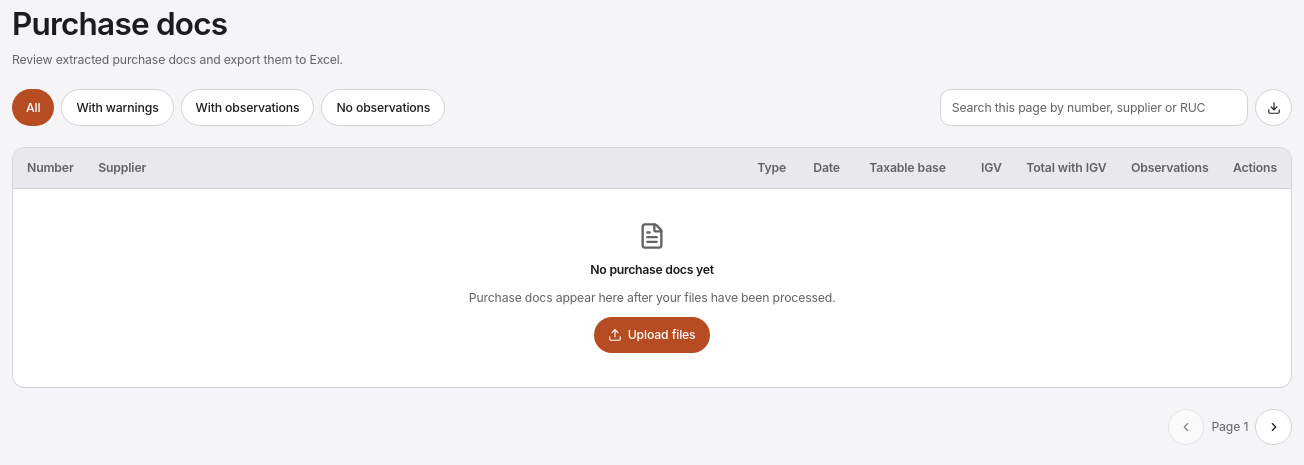
Test: uses next_offset and resets to the first page when filters change
Click the button named "Next" at (1274, 427), box [1255,408,1292,445]
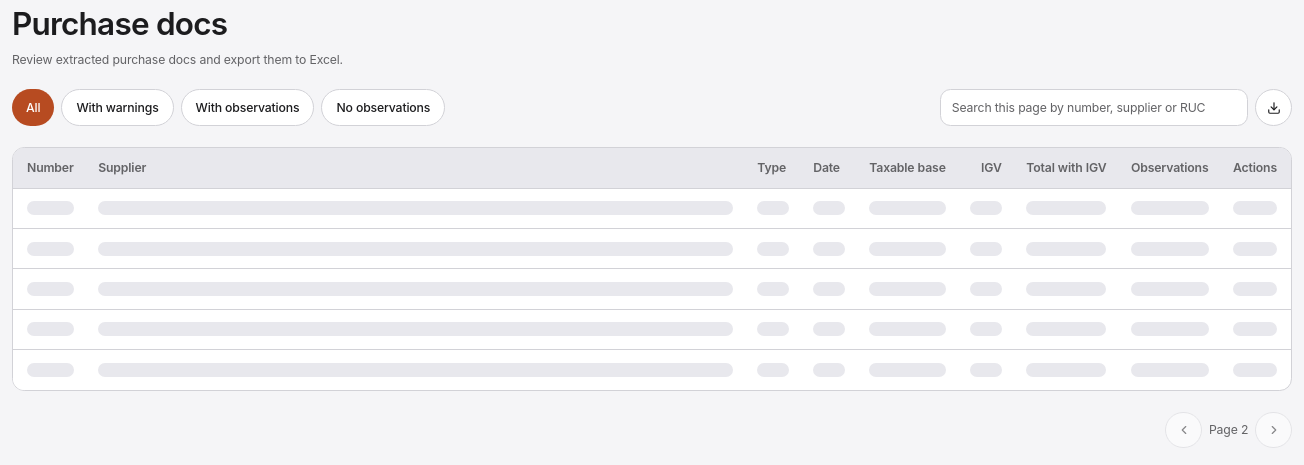
Click the button "With warnings" at (118, 108), box [61,89,174,126]
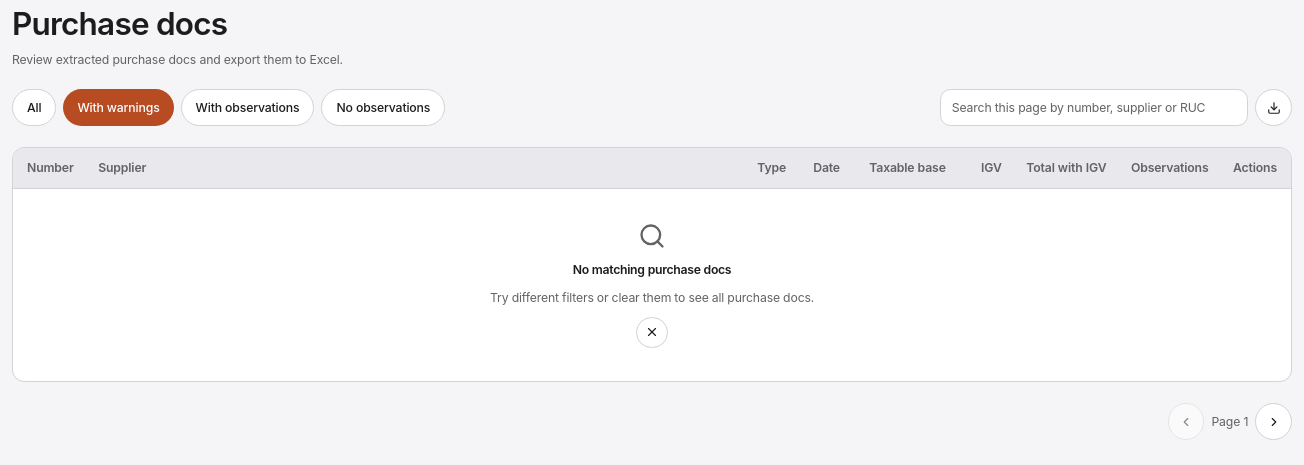
Result: the text "Page 1" is shown at [1211,413,1248,430]
